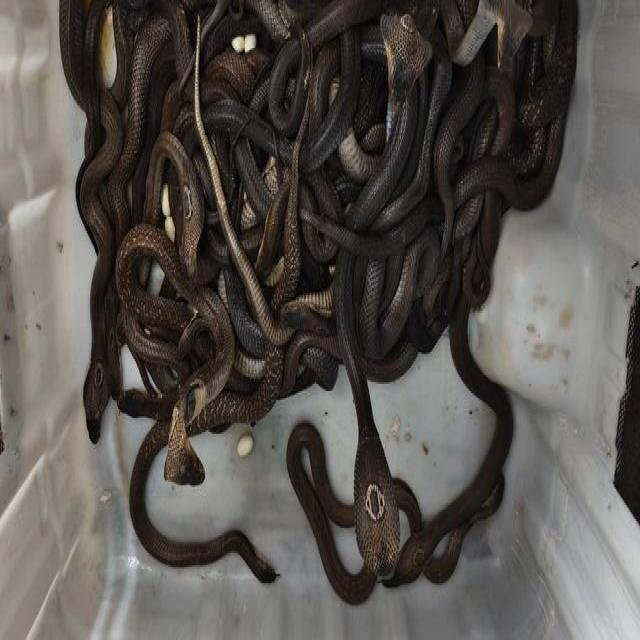Venomous: (343, 436, 409, 589), (384, 13, 439, 96), (156, 422, 208, 500), (74, 356, 116, 443), (179, 181, 208, 279), (243, 538, 287, 598), (398, 533, 428, 604)
